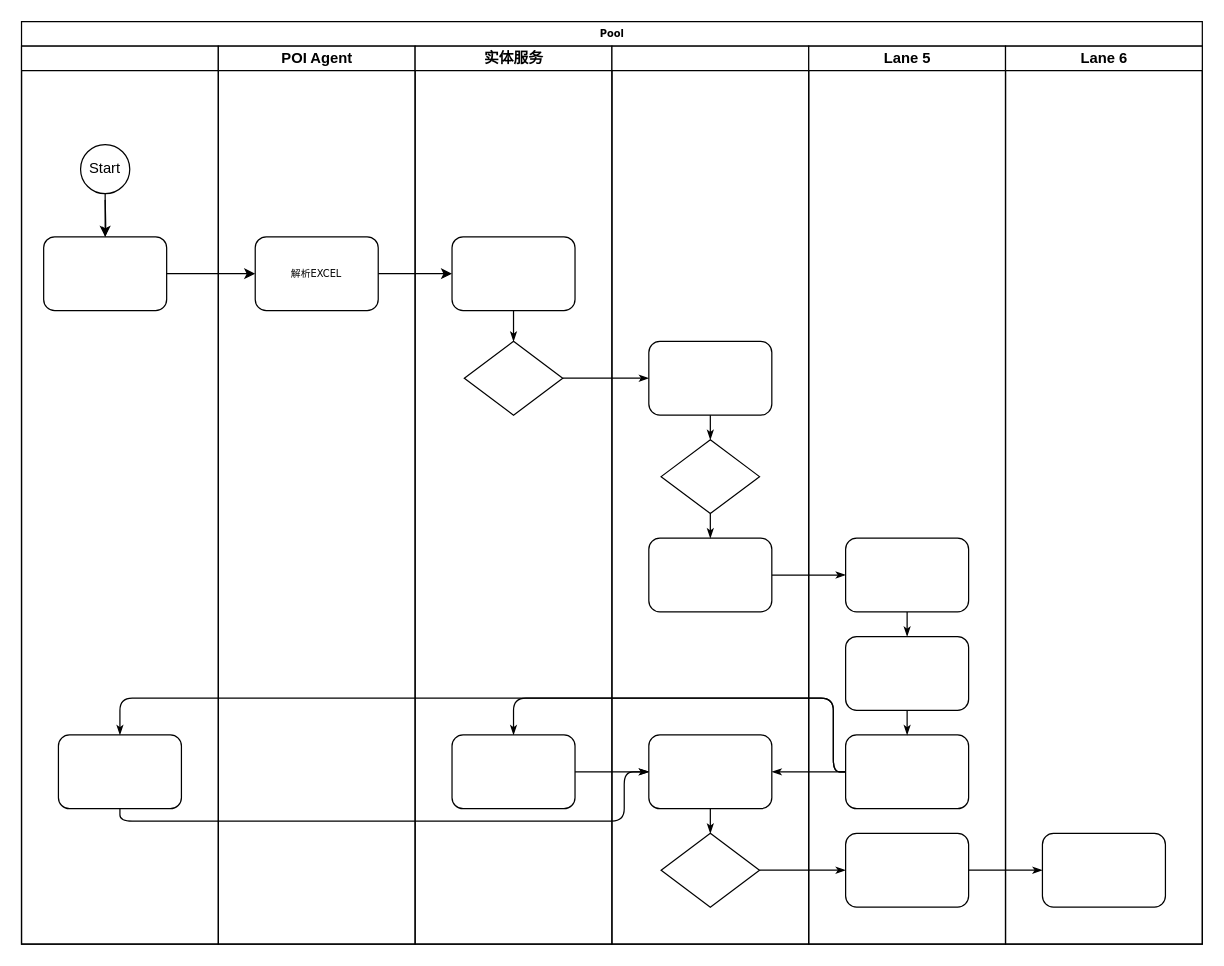
The diagram is 1224 pixels wide and 966 high, and some of its shapes have lost their labels. Here are the shapes that lost their labels. From the top down, the box of each, then its label:
(42, 236, 167, 311): 导入EXCEL
(451, 236, 575, 311): 获取实体元数据
(20, 45, 218, 944): 用户
(611, 45, 809, 944): Lane 4
